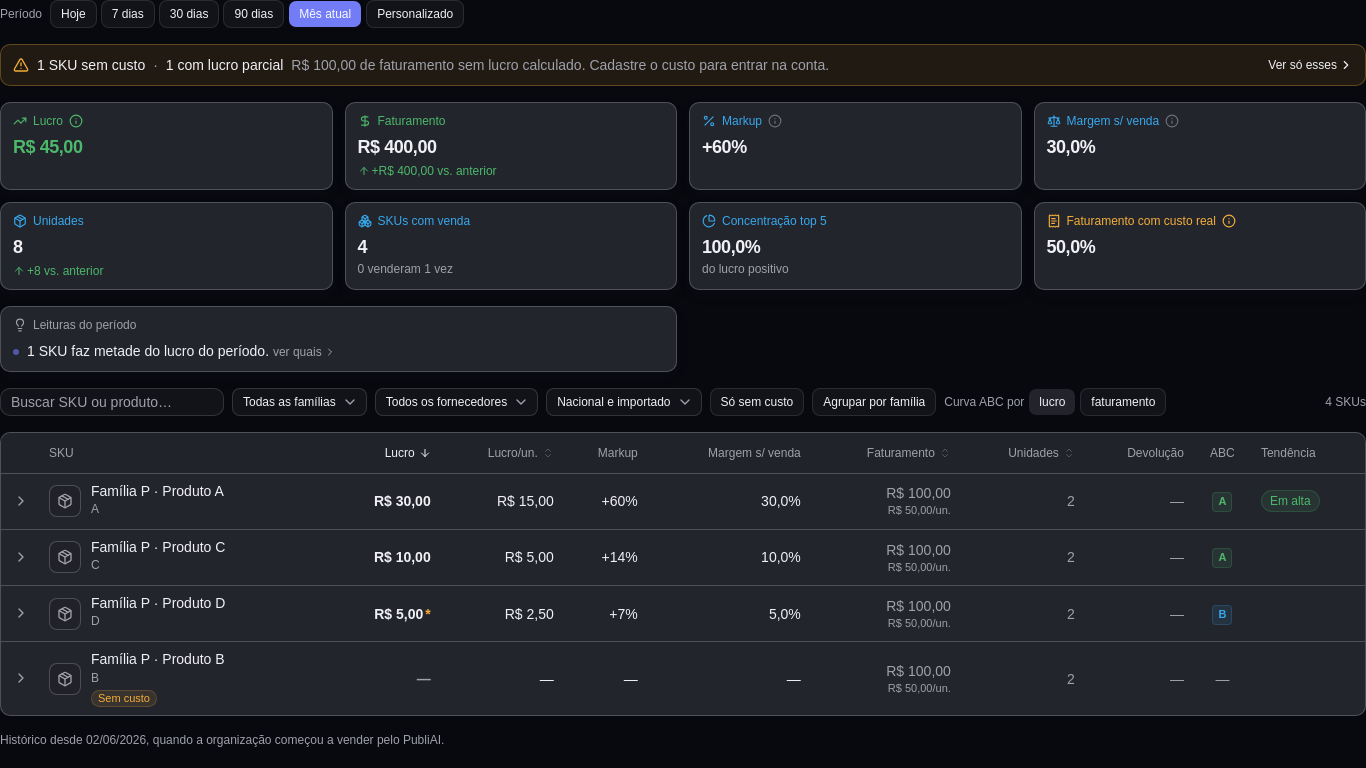
Scenario: AbaVendasSku › agrupar por família mostra a família e, ao expandir, as variações
This screenshot has width=1366, height=768.
Step 1. Click the button "Agrupar por família" → [874, 402], box 812,388 -> 936,416
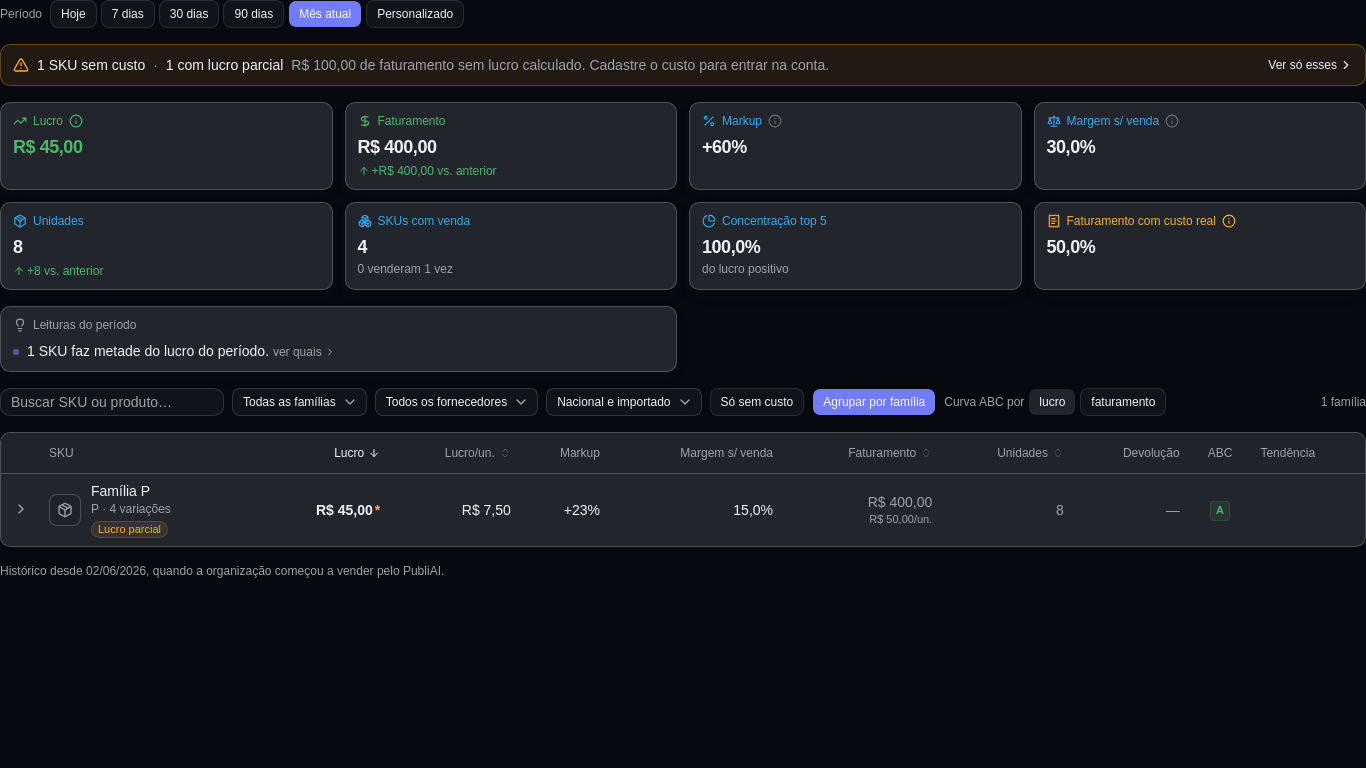
Step 2. Click the button named "Mostrar variações de Família P" → [21, 510], box 9,498 -> 33,522
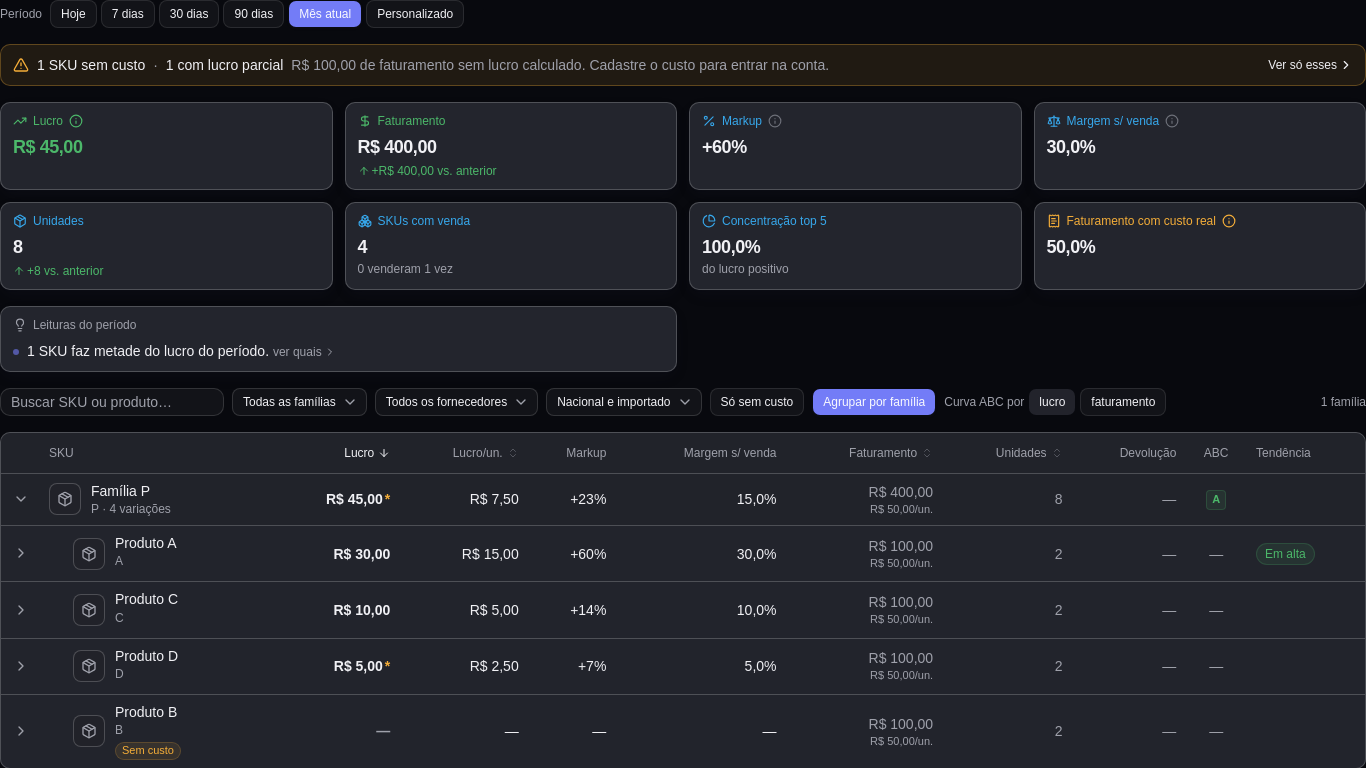
Expected: the text with test id "sku-titulo" reads "Produto A", 115,535 -> 176,551
